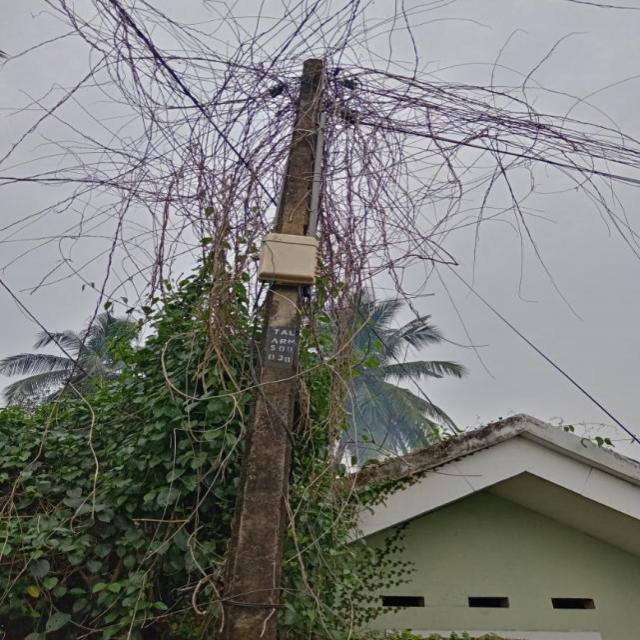light_pole: (214, 43, 337, 640)
